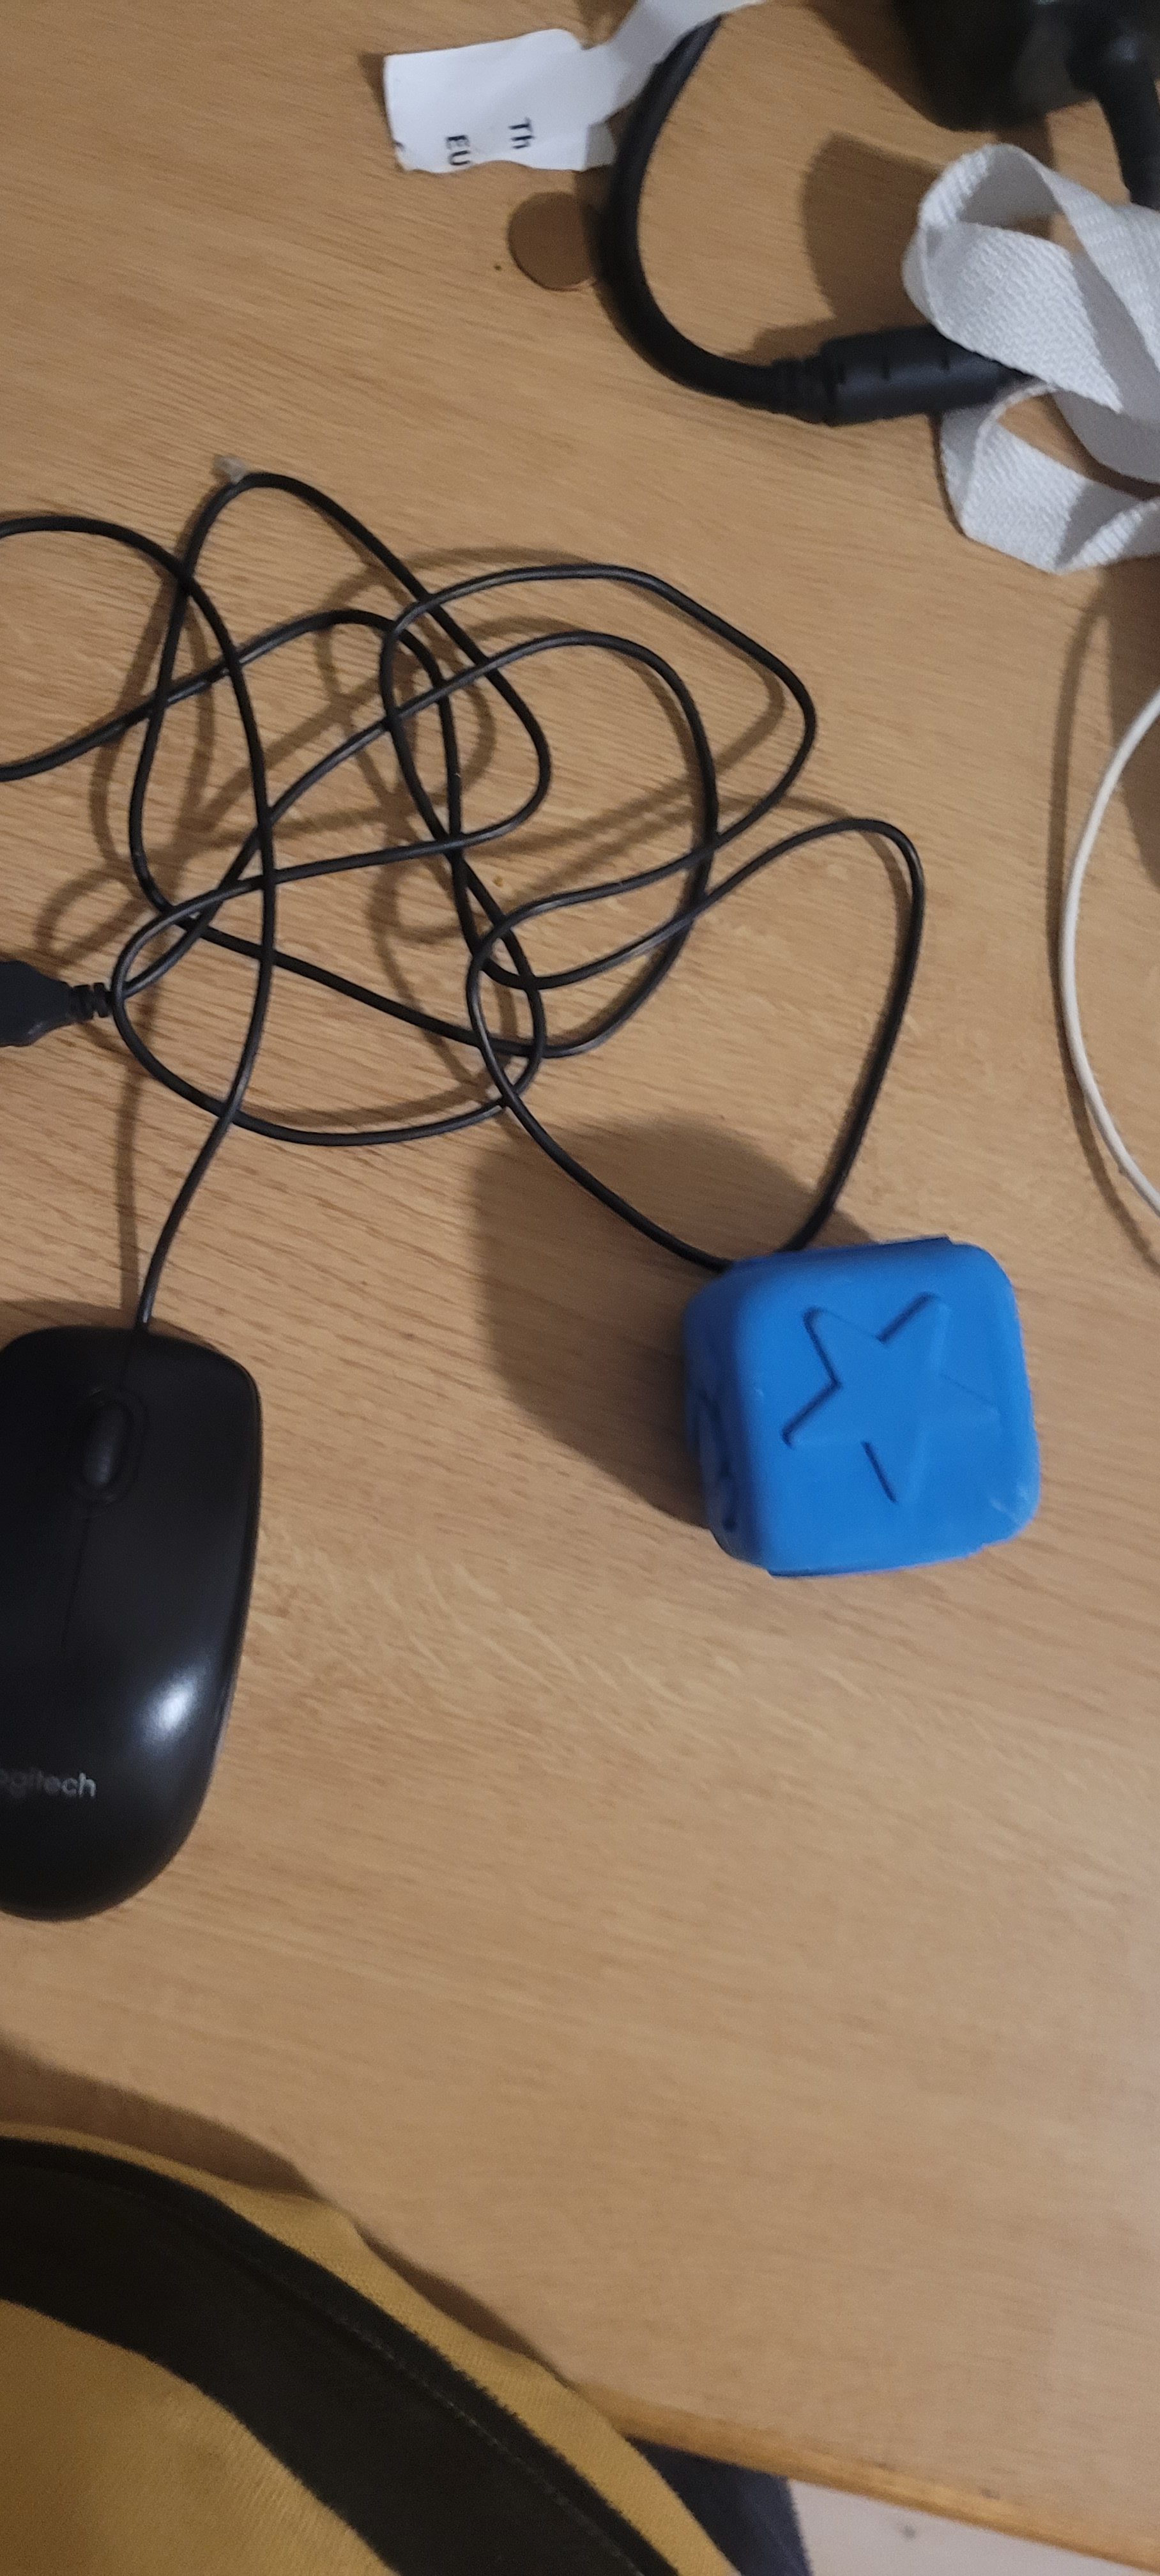Star: (764, 1308, 1025, 1500)
